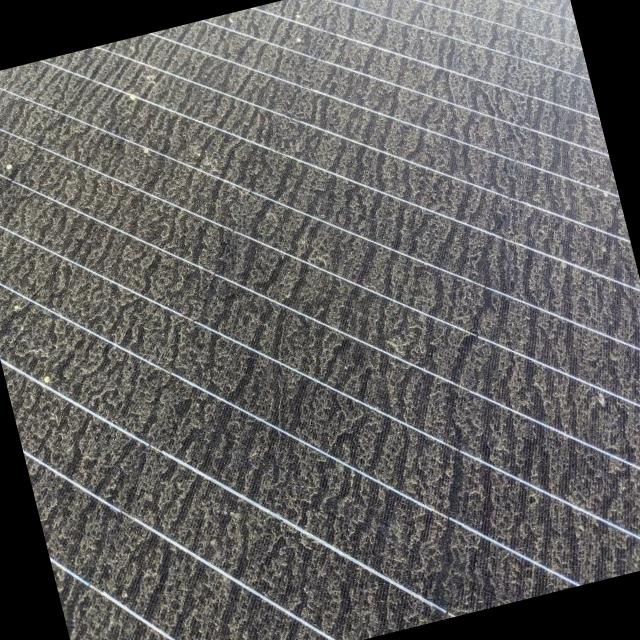faulty: (36, 18, 634, 609)
